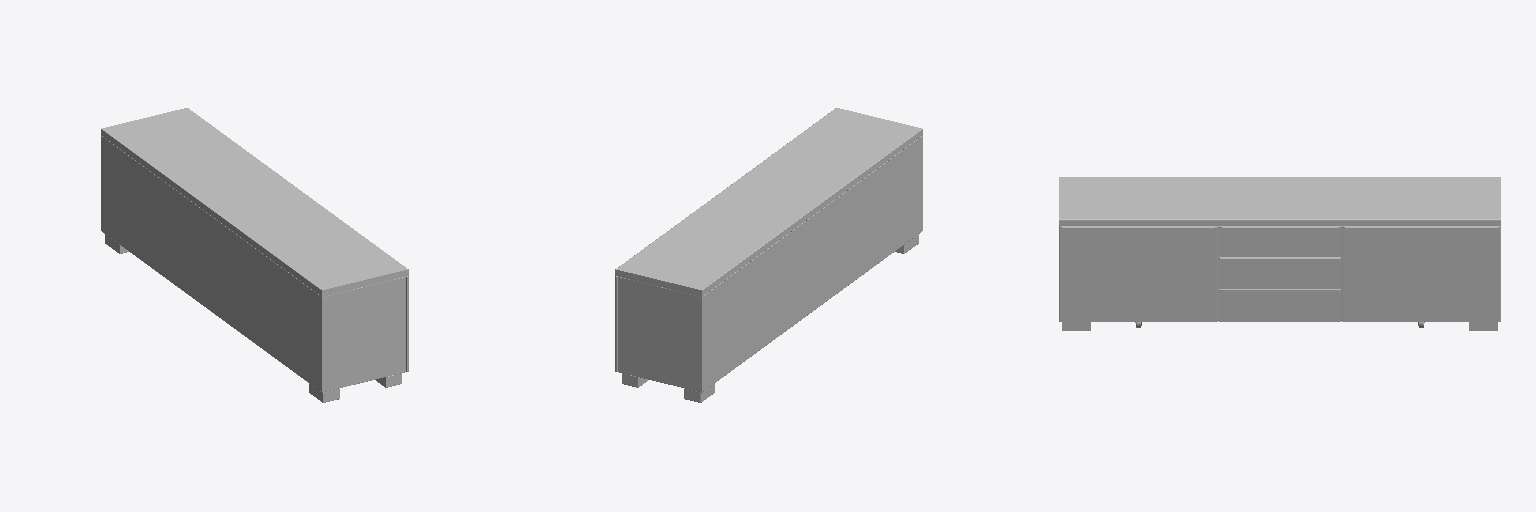
The model's file is Locker IKEA Besto Burs N140219.obj.
The picture shows the model from 3 angles: view 1: azimuth 30°, elevation 25°; view 2: azimuth 150°, elevation 25°; view 3: azimuth 270°, elevation 25°; orthographic projection.
Visible parts, largest first — view 1: Box004, Rectangle027; view 2: Box004, Rectangle027; view 3: Rectangle027, Rectangle037, Rectangle034, Rectangle032, Rectangle028, Rectangle030.
Part boxes in pixels (x1,y1,x2,y2): Box004: (101,136,405,392); Rectangle027: (101,108,408,296); Box004: (618,136,922,392); Rectangle027: (615,108,922,296); Rectangle027: (1059,177,1500,225); Rectangle037: (1059,227,1217,321); Rectangle034: (1342,227,1500,321); Rectangle032: (1219,290,1340,321); Rectangle028: (1219,259,1340,288); Rectangle030: (1219,227,1340,256).
Size of the model in its own units: 165 by 203 by 709.